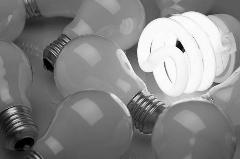lightbulb: (1, 1, 239, 159), (52, 34, 166, 134), (137, 11, 239, 97), (23, 89, 133, 159), (42, 0, 146, 72), (151, 97, 237, 159), (0, 40, 38, 152), (0, 0, 26, 42)
